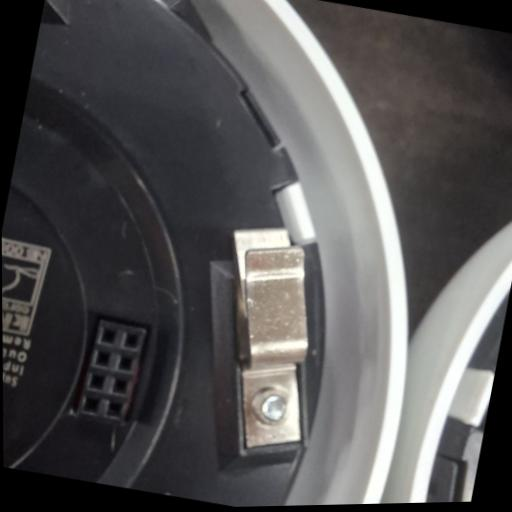yayli: (188, 213, 346, 465)
